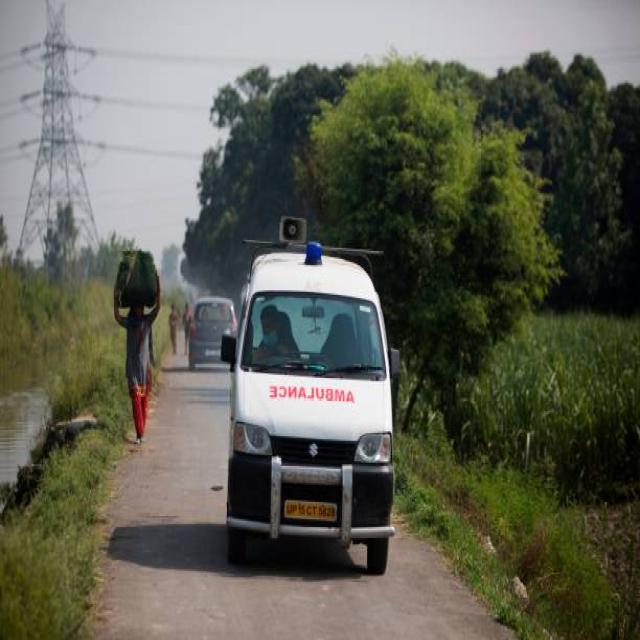ambulance: (254, 275, 378, 381), (268, 380, 362, 410), (304, 235, 327, 276)
